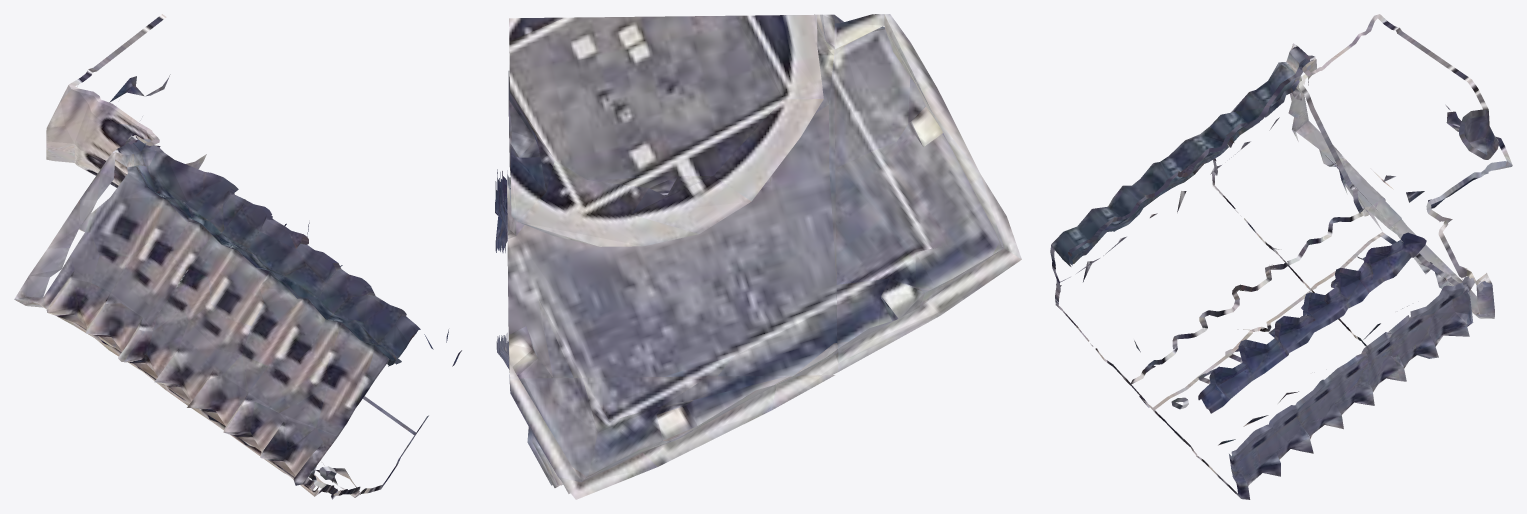
The picture shows the model from 3 angles, left to right: view 1: azimuth 30°, elevation 25°; view 2: azimuth 150°, elevation 25°; view 3: azimuth 270°, elevation 25°; orthographic projection. The views are drawn at different scales.
Bounding box in the file's own units: 37.65 × 37.34 × 41.27.
2 materials, 2 textured.
